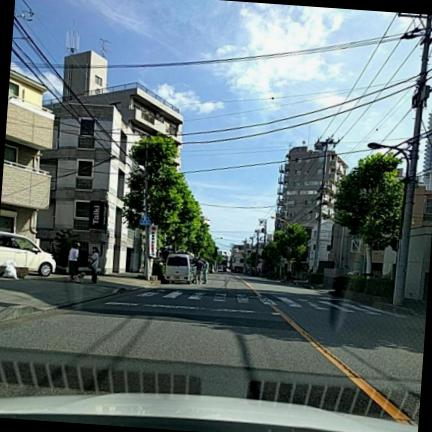Road: (0, 274, 424, 419)
